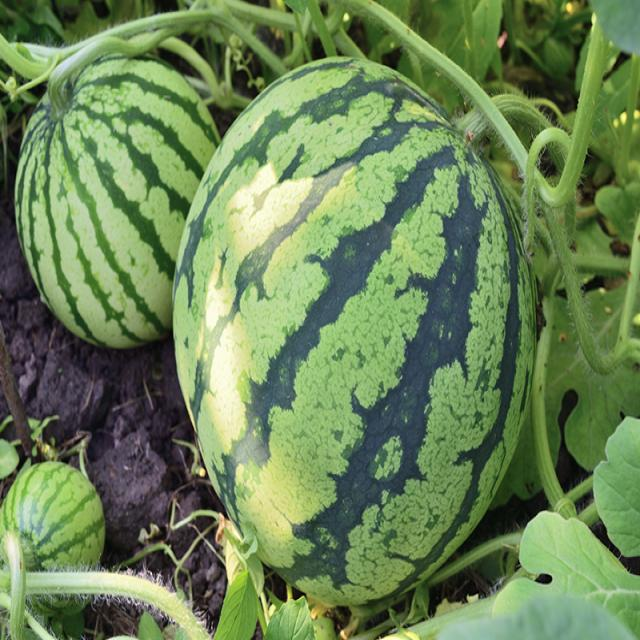watermelon: (170, 58, 538, 612), (14, 49, 221, 351)
